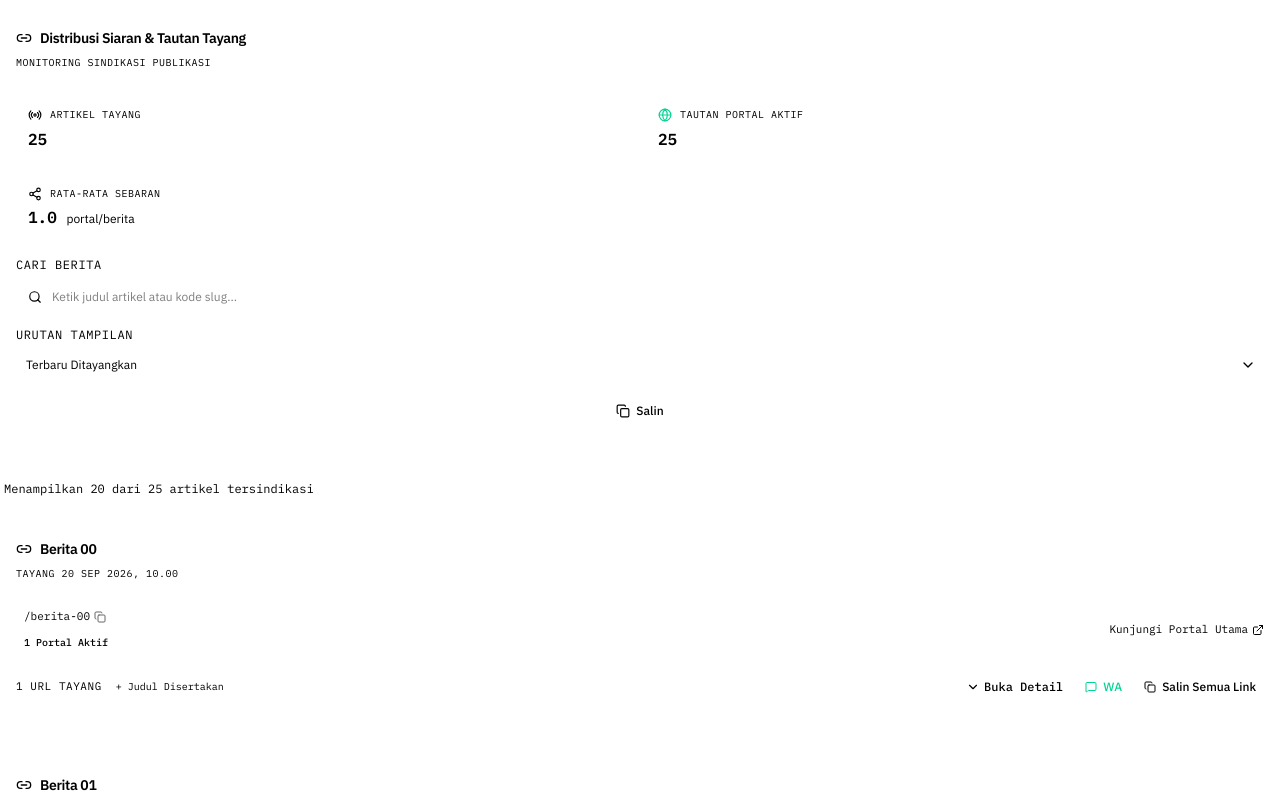
Test: PublishedUrlBoard pagination › menyorot satu blok URL utuh per artikel setelah dibuka, tidak memotong antarhalaman
Click the button "Buka Detail". click: (1015, 687)
box: [958,673,1071,701]
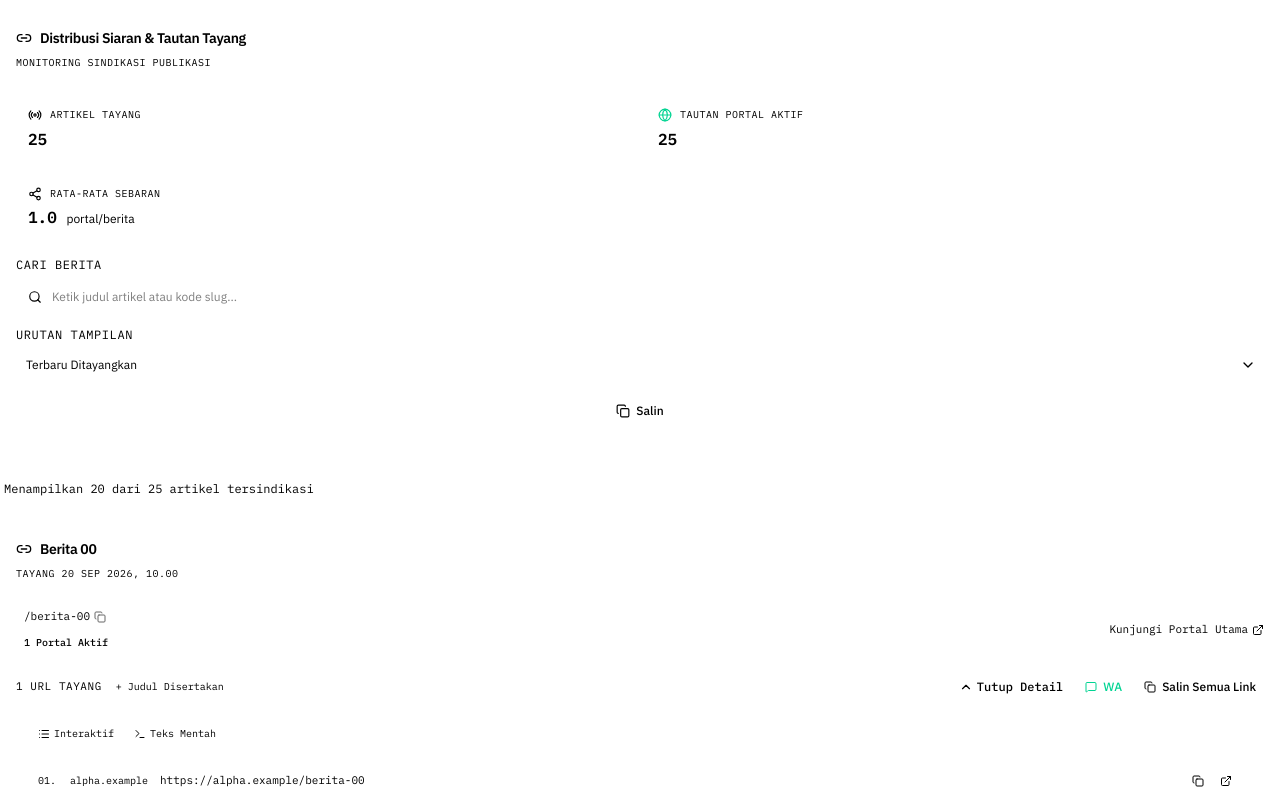
Now the text "https://alpha.example/berita-00" is shown, box [160,773,365,789]
